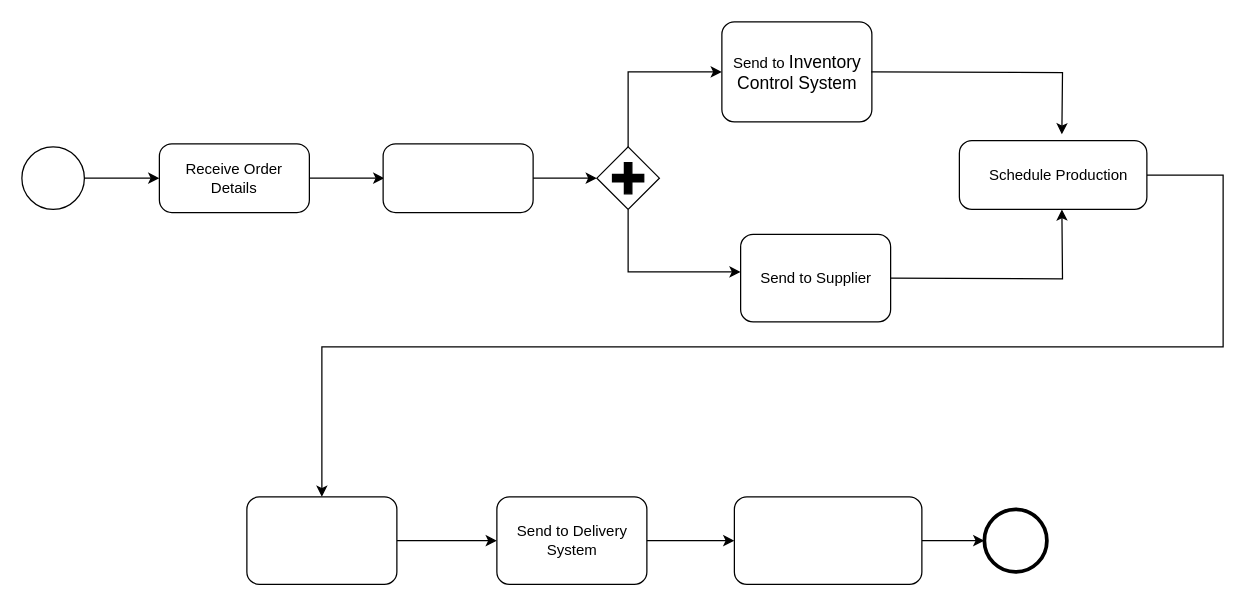
This 1255x606 diagram has some shape labels left out. The box of each missing label's shape, as (x1, y1, x2, y2) in pixels:
Check Inventory and Supplier Orders: (382, 142, 533, 212)
Get Meals: (246, 496, 397, 584)
Synchronise information with the Delivery System: (733, 496, 922, 584)
